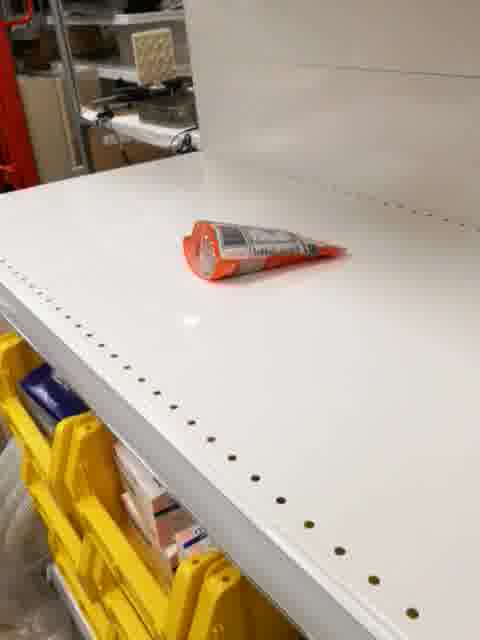whitechia: (182, 217, 348, 283)
